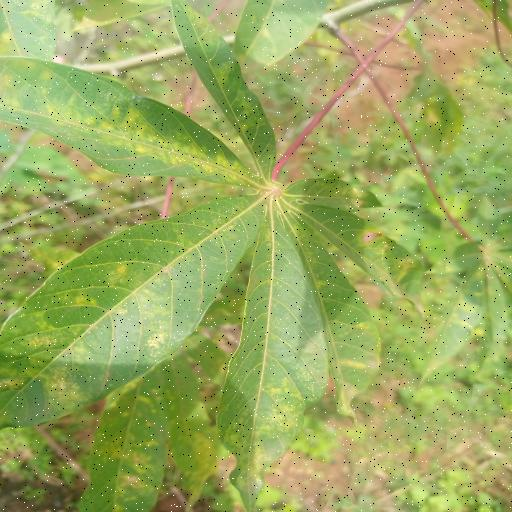Cassava_Mosaic: (4, 0, 440, 512)
